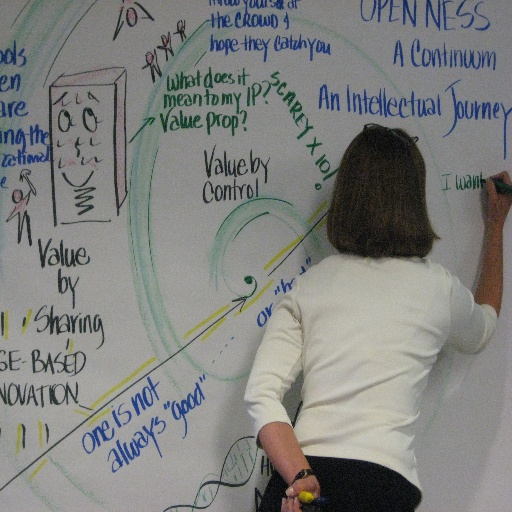hand: (256, 405, 325, 504), (485, 171, 511, 226)
